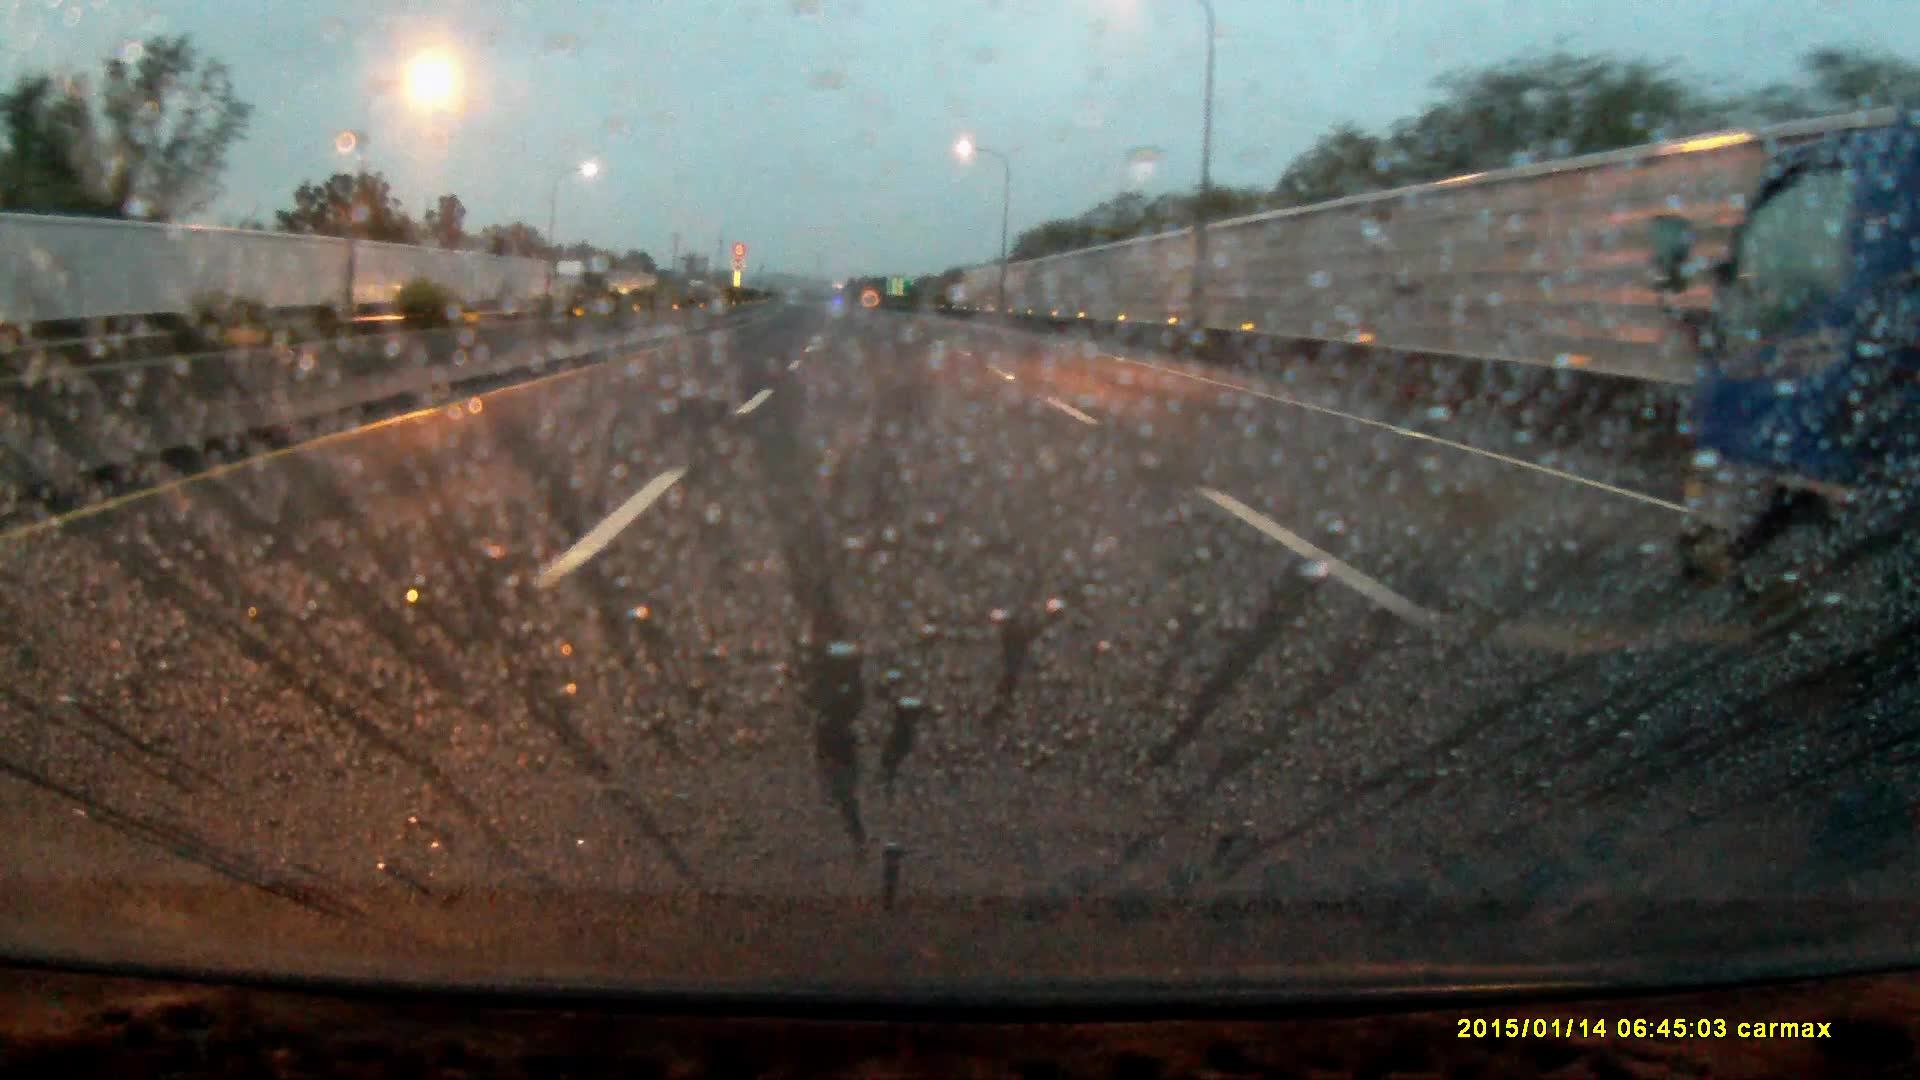vehicle: (1648, 131, 1920, 609), (549, 262, 600, 313)
